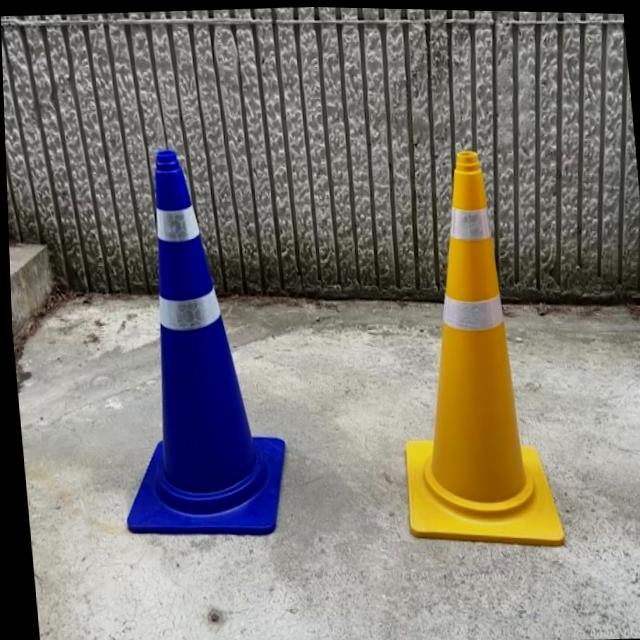b_rub: (123, 150, 282, 533)
y_rub: (402, 149, 561, 542)
